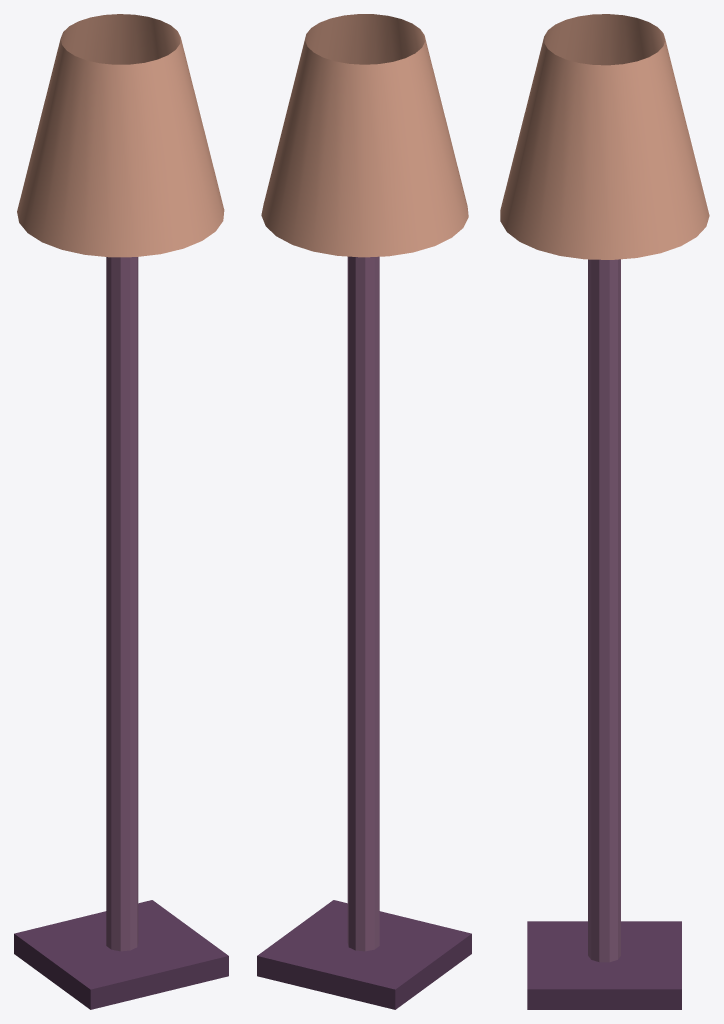
File: lampasset.fbx
3 renders of one model, left to right at view 1: azimuth 30°, elevation 25°; view 2: azimuth 150°, elevation 25°; view 3: azimuth 270°, elevation 25°, orthographic.
Visible parts, largest first — view 1: Cylinder; view 2: Cylinder; view 3: Cylinder.
Part boxes in pixels (<box>): Cylinder: <box>14,14,228,1009</box>; Cylinder: <box>257,14,471,1009</box>; Cylinder: <box>500,14,709,1009</box>.
Size of the model in its own units: 131 by 643 by 130.
